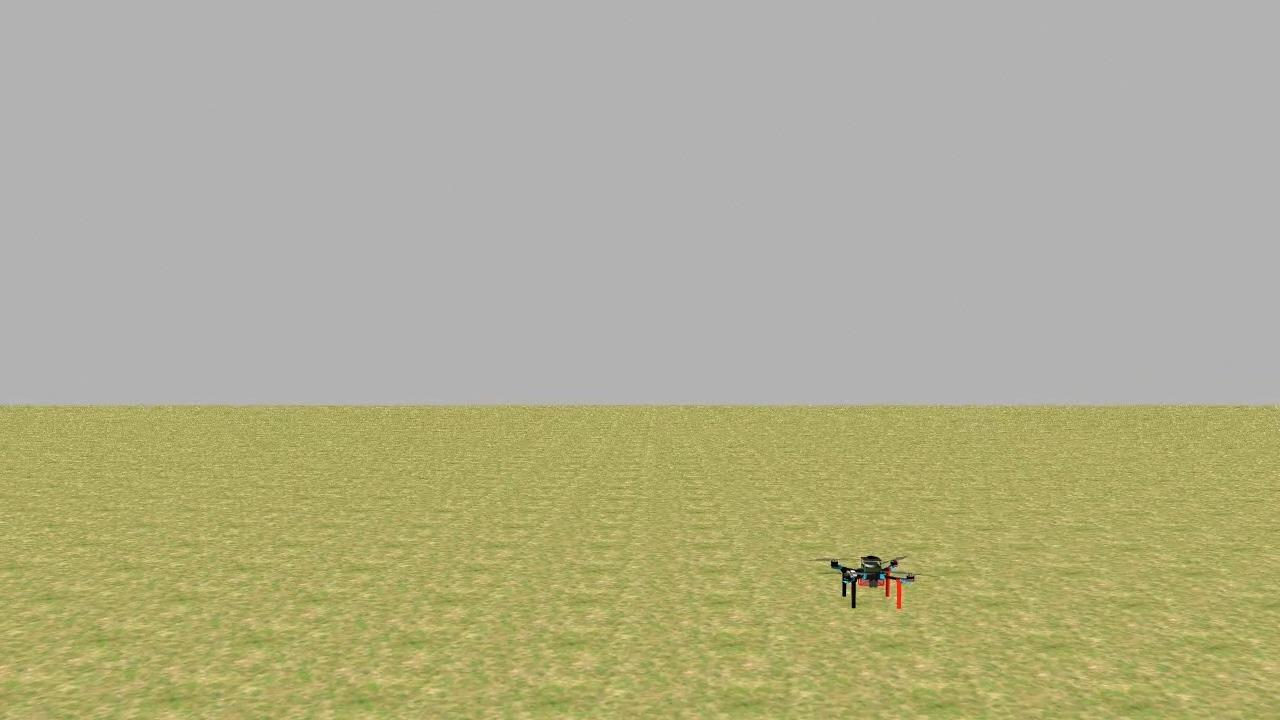UAV: (819, 544, 925, 613)
